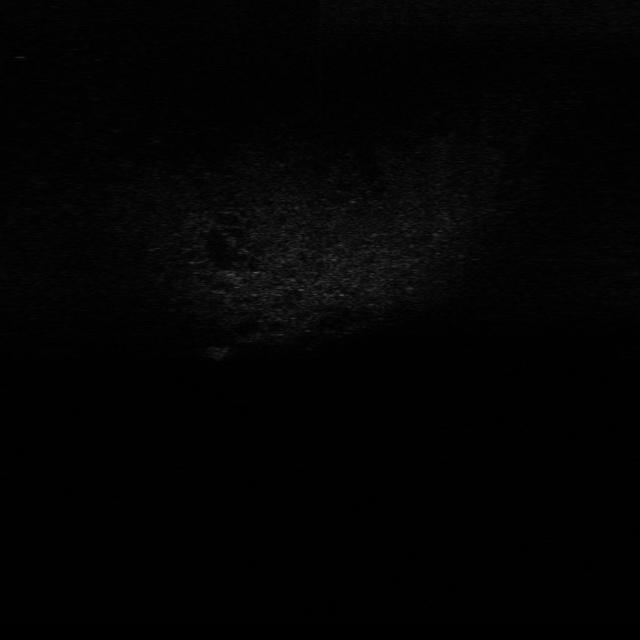cube: (200, 342, 230, 362)
